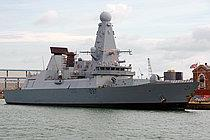MIL_Ship: (2, 12, 204, 113)
